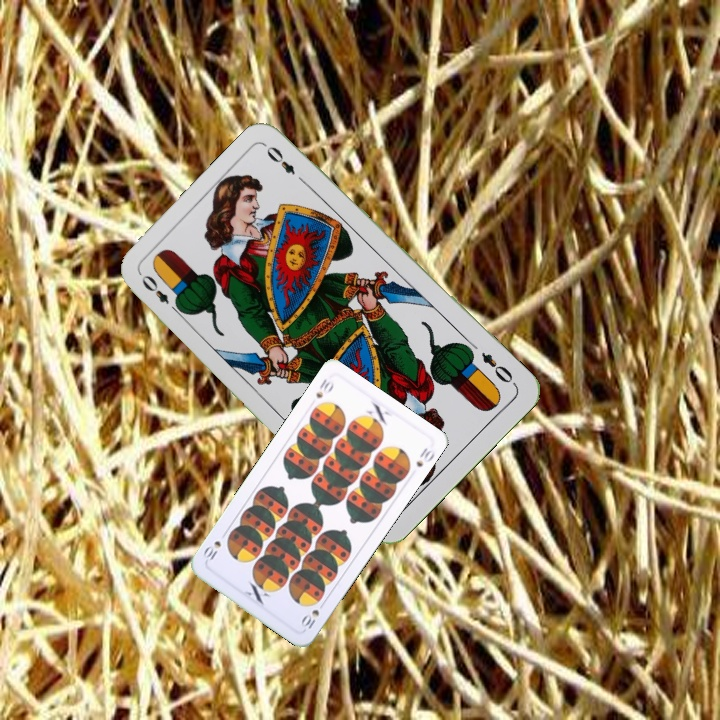EO: (137, 270, 184, 317), (477, 348, 515, 386)
S10: (297, 597, 328, 633), (312, 375, 337, 401)
